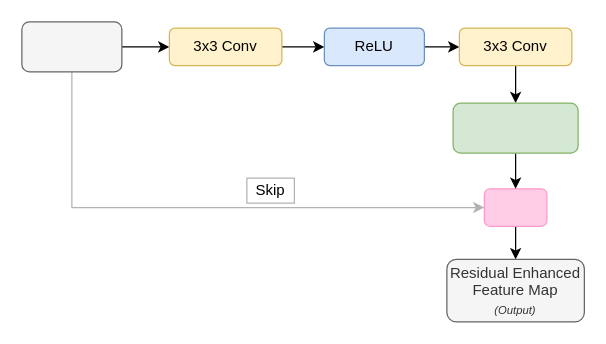
The diagram is 606 pixels wide and 344 high, and some of its shapes have lost their labels. Each missing label, with the box of its shape:
Add (+): (483, 188, 547, 226)
Feature Map (Input): (21, 21, 122, 72)
Residual Scaling x 0.1: (452, 102, 578, 153)
